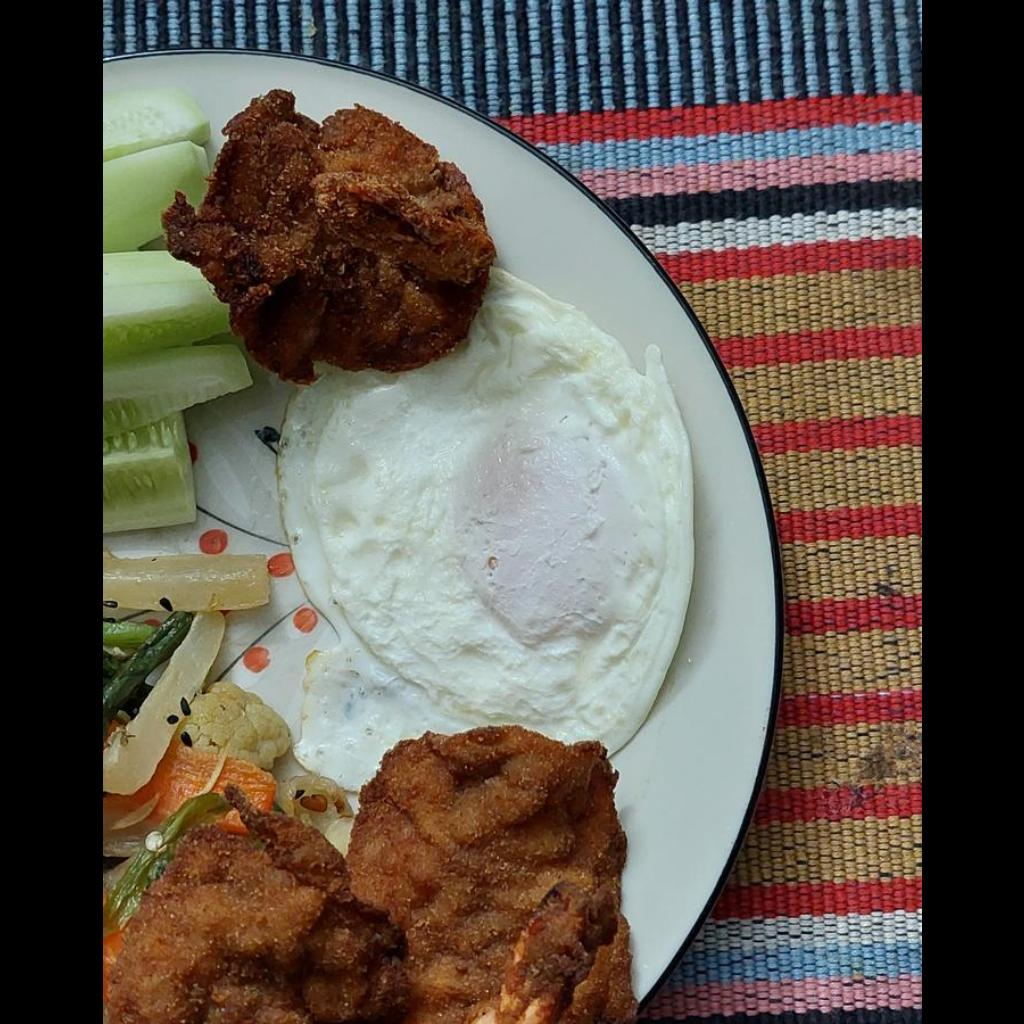chicken: (102, 735, 637, 1023)
egg-poached: (274, 270, 702, 786)
kabab: (166, 88, 492, 379)
salad: (102, 95, 249, 535)
vegetable: (102, 551, 289, 898)
